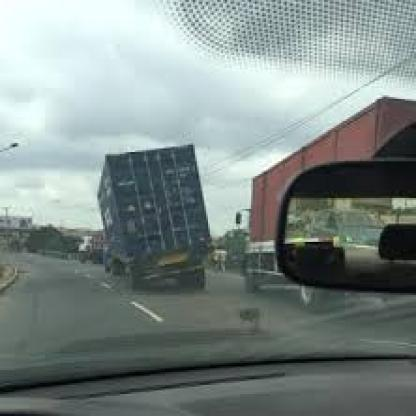car: (43, 120, 268, 303), (228, 121, 416, 317)
